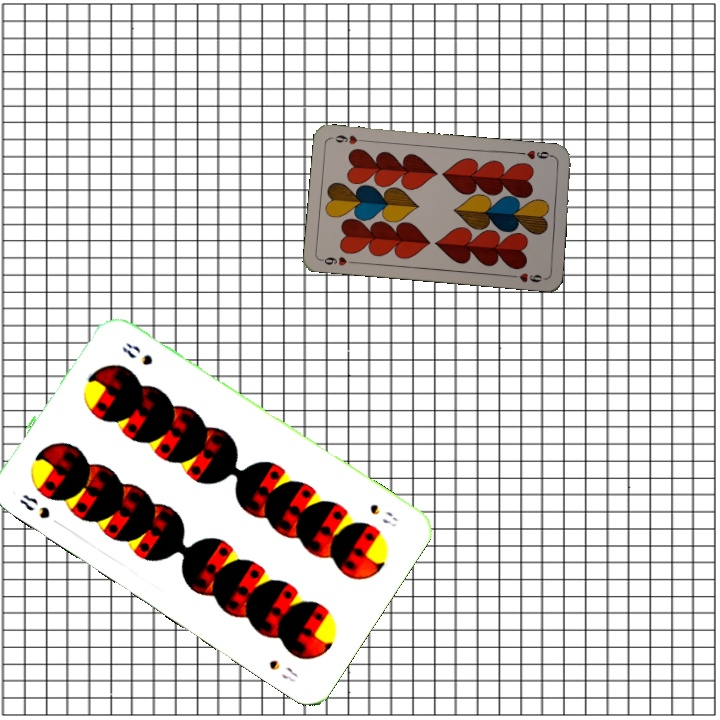H9: (516, 146, 556, 162), (317, 253, 358, 268)
S8: (15, 489, 53, 522), (365, 500, 401, 530)
